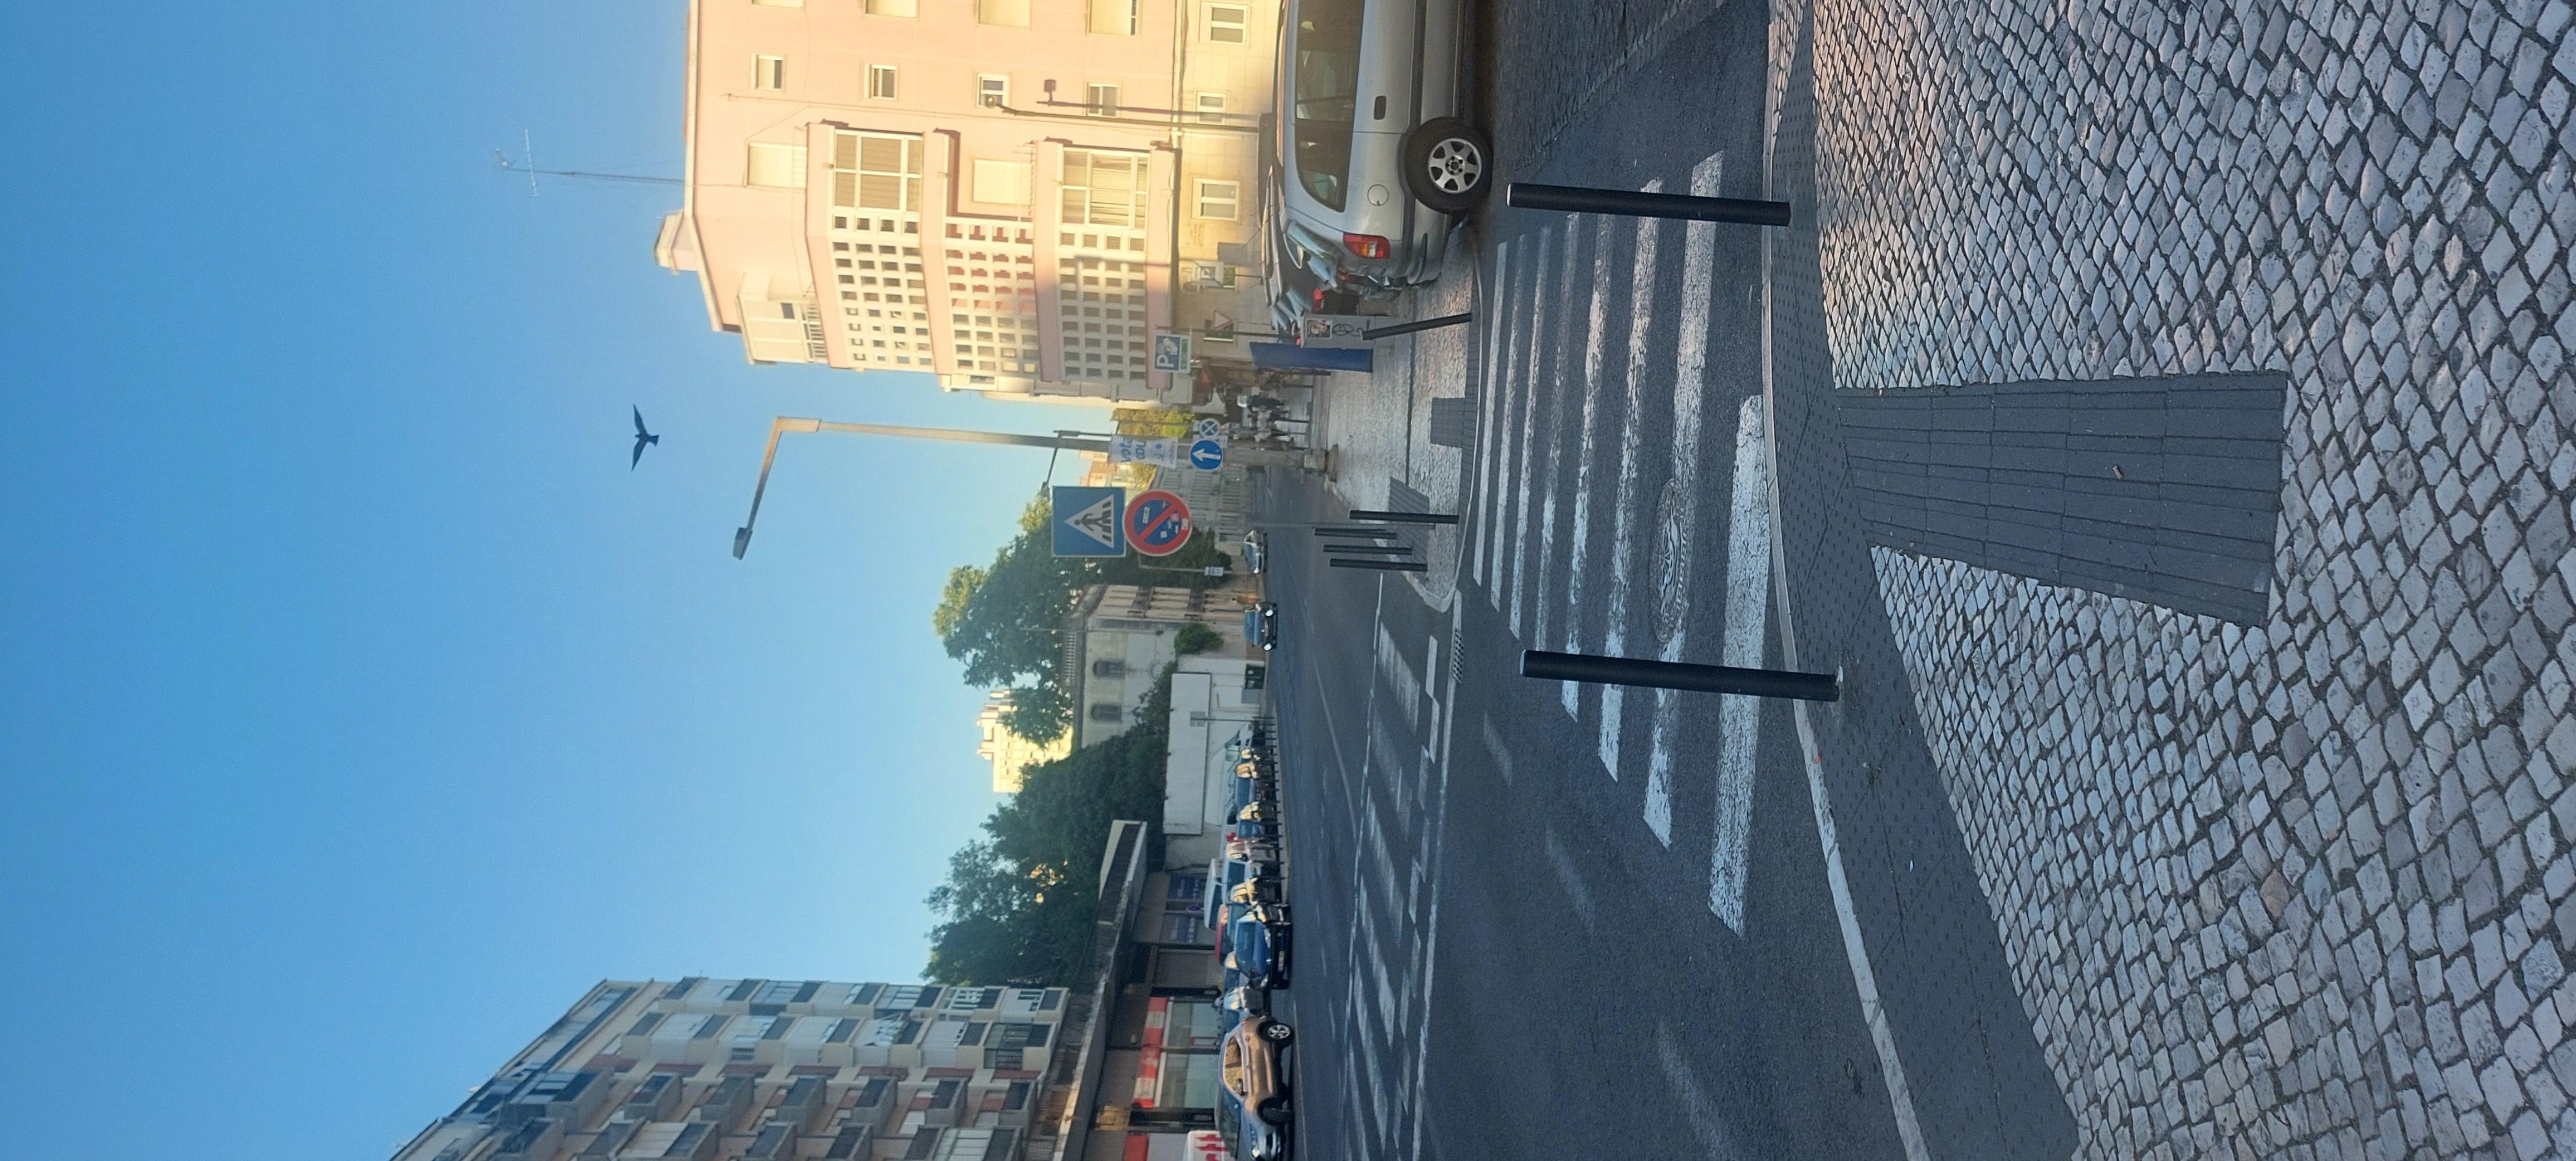Passagem para peoes: (1335, 472, 1497, 509)
estacionamento proibido: (1340, 508, 1497, 537)
